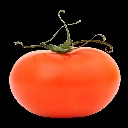tomato: (10, 48, 121, 117)
